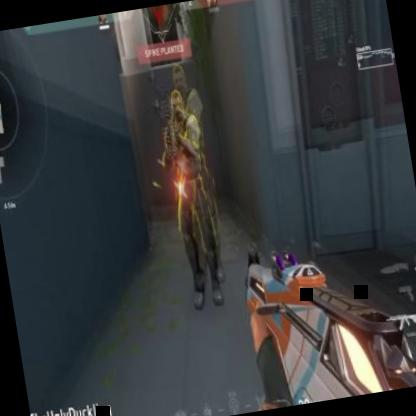enemy: (152, 86, 231, 314)
enemy_head: (170, 93, 185, 122)
